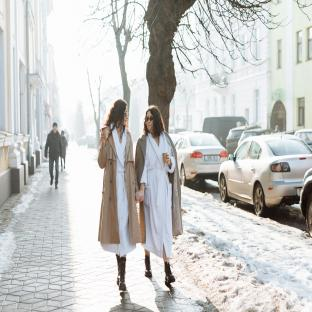Human: (135, 105, 183, 284), (98, 99, 142, 291)
